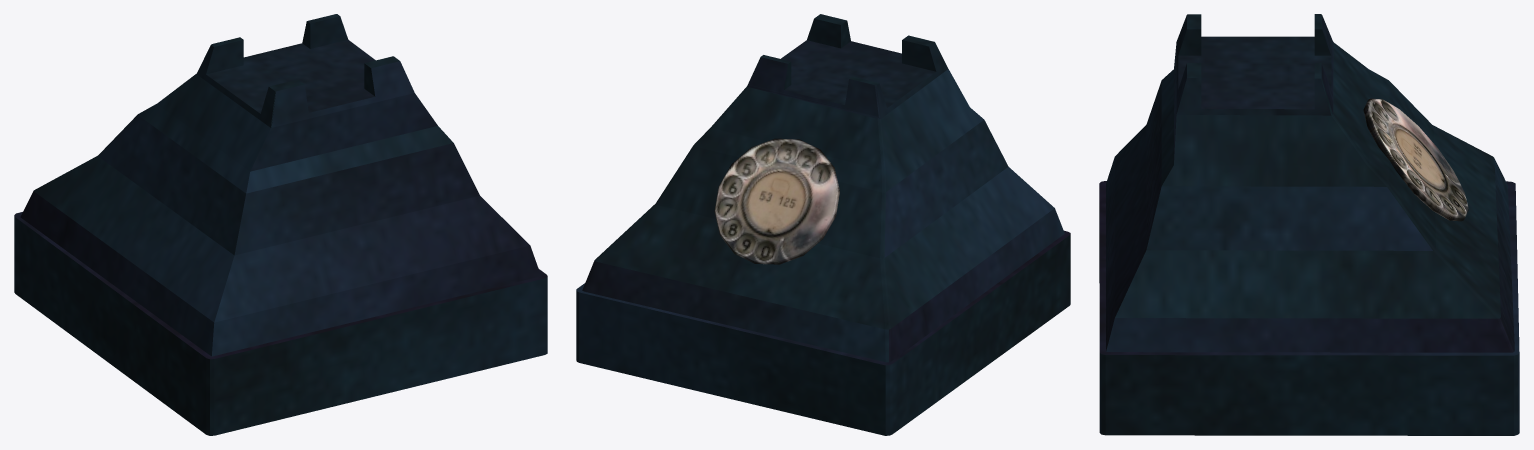
Rendered from telefone.fbx.
3 views of the same model, side by side, from view 1: azimuth 30°, elevation 25°; view 2: azimuth 150°, elevation 25°; view 3: azimuth 270°, elevation 25° (orthographic). The views are drawn at different scales.
Parts seen in each view (by area): view 1: pCube6; view 2: pCube6; view 3: pCube6.
Part boxes in pixels (bbox=[...]): pCube6: bbox=[14, 14, 547, 435]; pCube6: bbox=[576, 14, 1070, 435]; pCube6: bbox=[1099, 14, 1519, 435].
Bounding box in the file's own units: 20.5 × 16.51 × 20.81.
